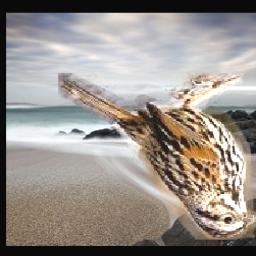Sparrow: (59, 74, 256, 241)
